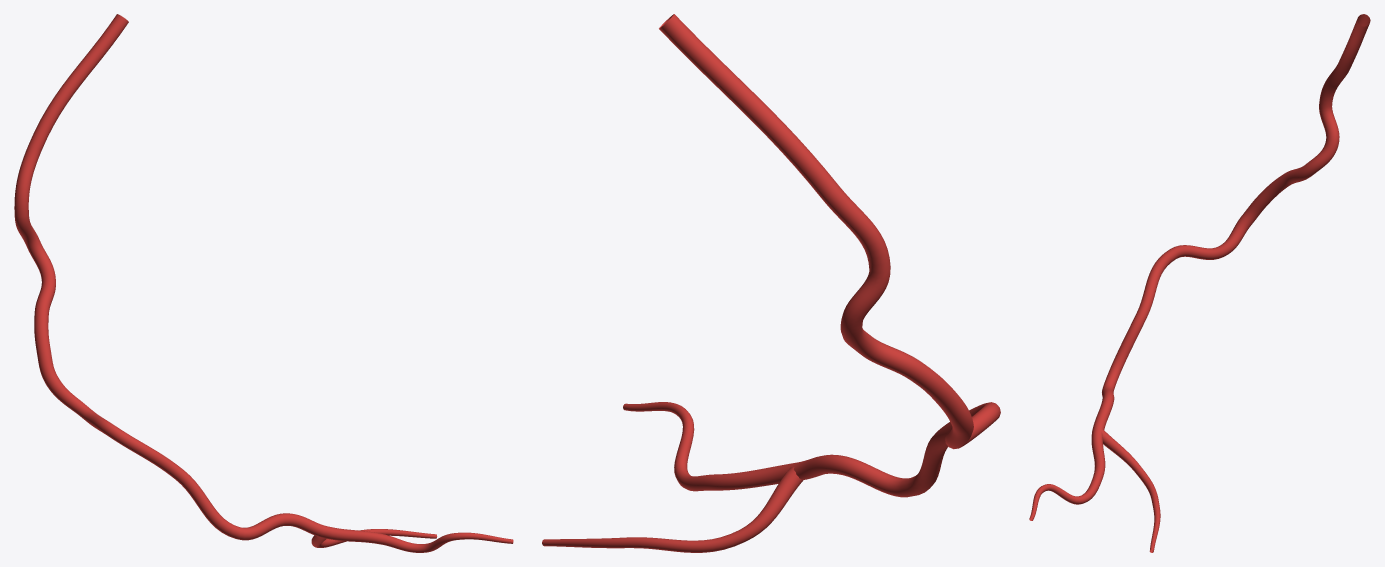
3 views of the same model, side by side, from view 1: azimuth 30°, elevation 25°; view 2: azimuth 150°, elevation 25°; view 3: azimuth 270°, elevation 25° (orthographic). The views are drawn at different scales.
Parts seen in each view (by area): view 1: 右侧外侧额底动脉; view 2: 右侧外侧额底动脉; view 3: 右侧外侧额底动脉.
Boxes of the visible parts, bbox=[...] form: 右侧外侧额底动脉: bbox=[14, 14, 513, 552]; 右侧外侧额底动脉: bbox=[542, 14, 1000, 552]; 右侧外侧额底动脉: bbox=[1029, 14, 1370, 552].
Size of the model in its own units: 0.0655 by 0.087 by 0.06.
